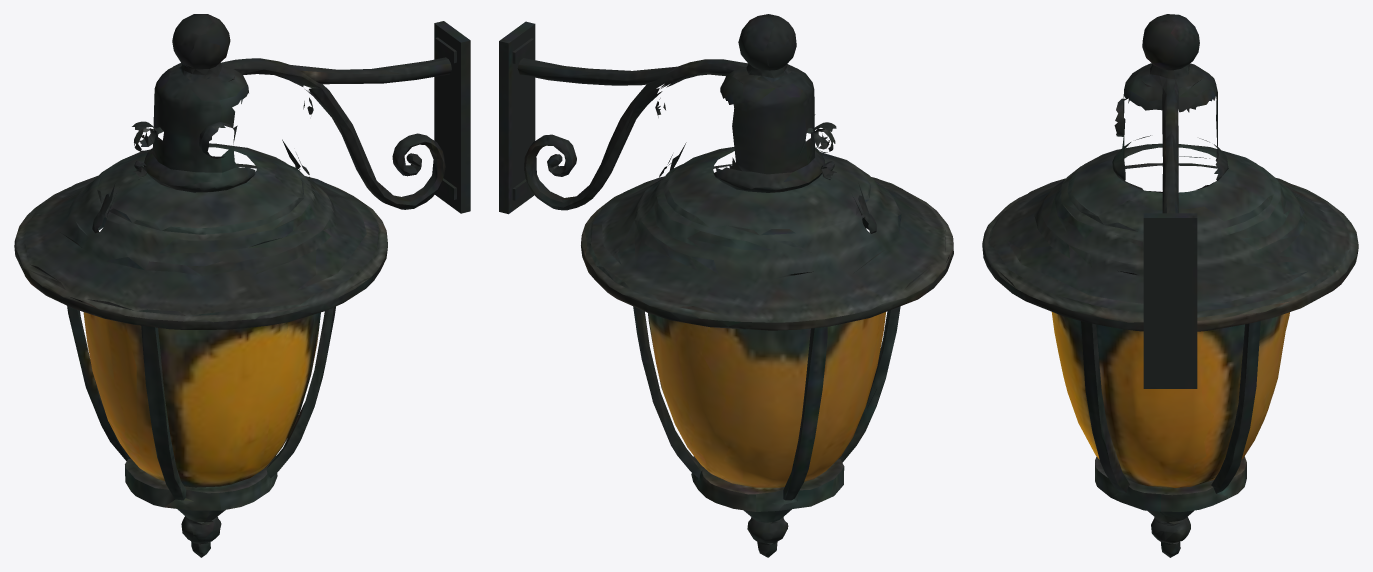
Rendered from kit_p2_wall_lamp.glb.
3 renders of one model, left to right at view 1: azimuth 30°, elevation 25°; view 2: azimuth 150°, elevation 25°; view 3: azimuth 270°, elevation 25°, orthographic.
Parts seen in each view (by area): view 1: main; view 2: main; view 3: main.
Part boxes in pixels (x1=…): main: x1=14, y1=14, x2=470, y2=557; main: x1=499, y1=14, x2=953, y2=557; main: x1=982, y1=14, x2=1358, y2=557.
Bounding box in the file's own units: 0.5249 × 0.6499 × 0.4097.
1 material, 1 textured.
